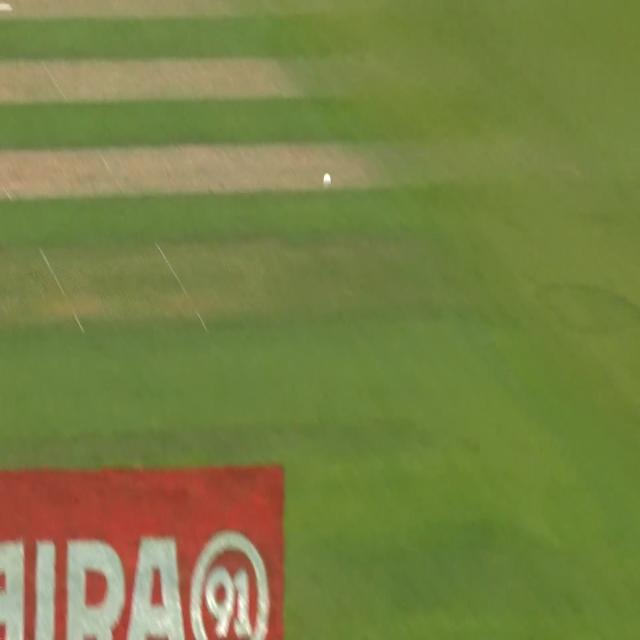ball: (320, 165, 335, 193)
